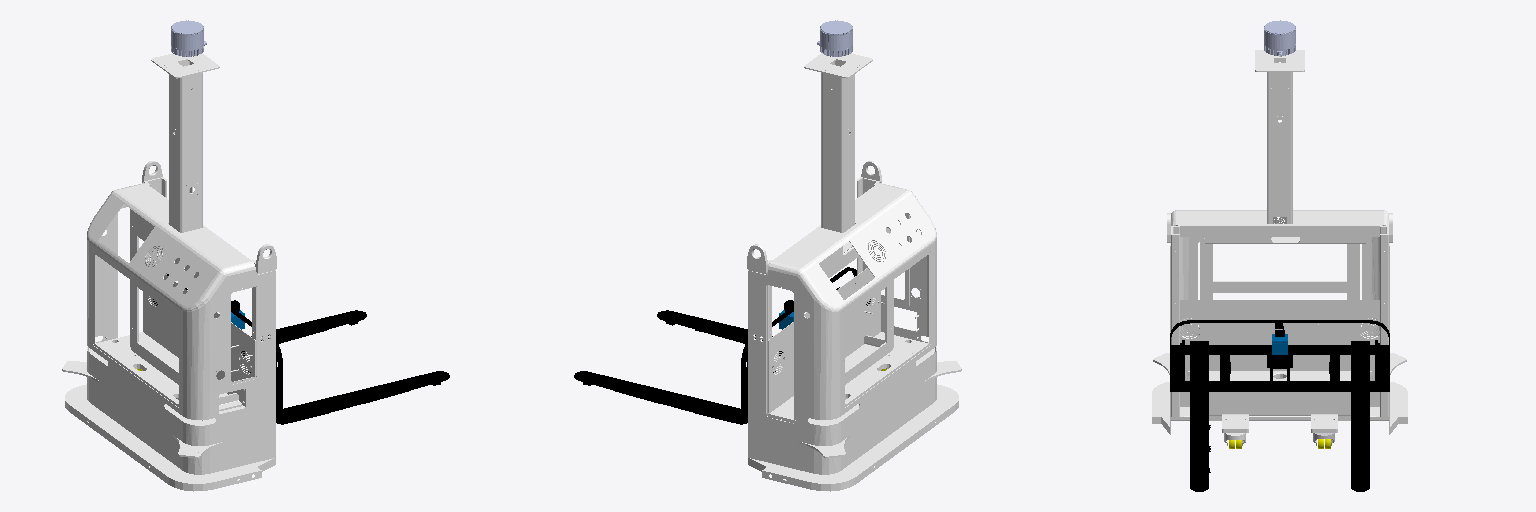
robot.urdf — AGV04132:
<?xml version="1.0" encoding="utf-8"?>
<!-- This URDF was automatically created by SolidWorks to URDF Exporter! Originally created by [author] ([email redacted]) 
     Commit Version: 1.6.0-4-g7f85cfe  Build Version: 1.6.7995.38578
     For more information, please see http://wiki.ros.org/sw_urdf_exporter -->
<robot
  name="AGV04132">
  <link
    name="base_link">
    <inertial>
      <origin
        xyz="0.066291 -0.0017733 0.2351"
        rpy="0 0 0" />
      <mass
        value="10.832" />
      <inertia
        ixx="0.54185"
        ixy="0.00068644"
        ixz="-0.011381"
        iyy="0.20496"
        iyz="0.0023083"
        izz="0.40961" />
    </inertial>
    <visual>
      <origin
        xyz="0 0 0"
        rpy="0 0 0" />
      <geometry>
        <mesh
          filename="package://AGV04132/meshes/base_link.STL" />
      </geometry>
      <material
        name="">
        <color
          rgba="1 1 1 1" />
      </material>
    </visual>
    <collision>
      <origin
        xyz="0 0 0"
        rpy="0 0 0" />
      <geometry>
        <mesh
          filename="package://AGV04132/meshes/base_link.STL" />
      </geometry>
    </collision>
  </link>
  <link
    name="left_actuated_wheel_Link">
    <inertial>
      <origin
        xyz="8.01539112860183E-11 -0.0290000047995962 1.00781702427888E-10"
        rpy="0 0 0" />
      <mass
        value="0.623375024004259" />
      <inertia
        ixx="0.00218383955294176"
        ixy="2.82707735071877E-13"
        ixz="3.08386316663336E-09"
        iyy="0.00399973970018724"
        iyz="2.29368724589417E-14"
        izz="0.00218352152437162" />
    </inertial>
    <visual>
      <origin
        xyz="0 0 0"
        rpy="0 0 0" />
      <geometry>
        <mesh
          filename="package://AGV04132/meshes/left_actuated_wheel_Link.STL" />
      </geometry>
      <material
        name="">
        <color
          rgba="1 1 0 1" />
      </material>
    </visual>
    <collision>
      <origin
        xyz="0 0 0"
        rpy="0 0 0" />
      <geometry>
        <mesh
          filename="package://AGV04132/meshes/left_actuated_wheel_Link.STL" />
      </geometry>
    </collision>
  </link>
  <joint
    name="left_actuated_wheel_joint"
    type="continuous">
    <origin
      xyz="0 0.303 0"
      rpy="0 0 0" />
    <parent
      link="base_link" />
    <child
      link="left_actuated_wheel_Link" />
    <axis
      xyz="0 1 0" />
  </joint>
  <link
    name="right_actuated_wheel_link">
    <inertial>
      <origin
        xyz="8.01539667971696E-11 0.0290000047995962 -1.0078156365001E-10"
        rpy="0 0 0" />
      <mass
        value="0.62337502400426" />
      <inertia
        ixx="0.00218383955294177"
        ixy="-2.82709515164589E-13"
        ixz="-3.08386316712581E-09"
        iyy="0.00399973970018725"
        iyz="2.29401615622903E-14"
        izz="0.00218352152437162" />
    </inertial>
    <visual>
      <origin
        xyz="0 0 0"
        rpy="0 0 0" />
      <geometry>
        <mesh
          filename="package://AGV04132/meshes/right_actuated_wheel_link.STL" />
      </geometry>
      <material
        name="">
        <color
          rgba="1 1 0 1" />
      </material>
    </visual>
    <collision>
      <origin
        xyz="0 0 0"
        rpy="0 0 0" />
      <geometry>
        <mesh
          filename="package://AGV04132/meshes/right_actuated_wheel_link.STL" />
      </geometry>
    </collision>
  </link>
  <joint
    name="right_actuated_wheel_joint"
    type="continuous">
    <origin
      xyz="0 -0.303 0"
      rpy="0 0 0" />
    <parent
      link="base_link" />
    <child
      link="right_actuated_wheel_link" />
    <axis
      xyz="0 1 0" />
  </joint>
  <link
    name="fork_link">
    <inertial>
      <origin
        xyz="0.15316 -7.6109E-05 -0.09274"
        rpy="0 0 0" />
      <mass
        value="3.0925" />
      <inertia
        ixx="0.051652"
        ixy="3.5814E-07"
        ixz="0.012075"
        iyy="0.071376"
        iyz="8.7888E-08"
        izz="0.10101" />
    </inertial>
    <visual>
      <origin
        xyz="0 0 0"
        rpy="0 0 0" />
      <geometry>
        <mesh
          filename="package://AGV04132/meshes/fork_link.STL" />
      </geometry>
      <material
        name="">
        <color
          rgba="0 0 0 1" />
      </material>
    </visual>
    <collision>
      <origin
        xyz="0 0 0"
        rpy="0 0 0" />
      <geometry>
        <mesh
          filename="package://AGV04132/meshes/fork_link.STL" />
      </geometry>
    </collision>
  </link>
  <joint
    name="fork_joint"
    type="prismatic">
    <origin
      xyz="0.145 0 0.21067"
      rpy="0 0 0" />
    <parent
      link="base_link" />
    <child
      link="fork_link" />
    <axis
      xyz="0 0 1" />
    <limit
      lower="0."
      upper="0.2"
      effort="0"
      velocity="0.05" />
    <dynamics damping="0.7" friction="0.5"/>
    <!-- <pid>
      <pid>100.0 10 0 </pid>
      <i_clamp>1.0</i_clamp>
    </pid> -->
  </joint>


  <link name="camera_Link">
    <inertial>
      <origin
        xyz="0.000168500877015532 6.80373883726769E-05 -0.0324046873984643"
        rpy="0 0 0" />
      <mass
        value="1e-5" />
      <inertia ixx="1e-6" ixy="0" ixz="0" iyy="1e-6" iyz="0" izz="1e-6" />
    </inertial>
    <visual>
      <origin
        xyz="0 0 0"
        rpy="0 0 0" />
            <geometry>
                <box size="0.05 0.05 0.05" />
            </geometry>
      <material
        name="Blue">
      </material>
    </visual>
    <collision>
      <origin
        xyz="0 0 0"
        rpy="0 0 0" />
            <geometry>
                <box size="0.05 0.05 0.05" />
            </geometry>
    </collision>
  </link>
  <joint
    name="camera_link_joint"
    type="fixed">
    <origin
      xyz="0.0872860492302612 0 0.0545877352644308"
      rpy="0 0 0" />
    <parent
      link="fork_link" />
    <child
      link="camera_Link" />
  </joint>
  <link
    name="liadar_link">
    <inertial>
      <origin
        xyz="0.0539558801128225 0.000239523932522526 -0.068864290839622"
        rpy="0 0 0" />
      <mass
        value="0.00188264379755462" />
      <inertia
        ixx="5.08572975763605E-08"
        ixy="-1.29897252751499E-10"
        ixz="1.5870589812105E-10"
        iyy="8.03361802698923E-08"
        iyz="6.10410719664548E-12"
        izz="7.90690114029389E-08" />
    </inertial>
    <visual>
      <origin
        xyz="0 0 0"
        rpy="0 0 0" />
      <geometry>
        <mesh
          filename="package://AGV04132/meshes/liadar_link.STL" />
      </geometry>
      <material
        name="">
        <color
          rgba="0.792156862745098 0.819607843137255 0.933333333333333 1" />
      </material>
    </visual>
    <collision>
      <origin
        xyz="0 0 0"
        rpy="0 0 0" />
      <geometry>
        <mesh
          filename="package://AGV04132/meshes/liadar_link.STL" />
      </geometry>
    </collision>
  </link>
  <joint
    name="liadar_joint"
    type="fixed">
    <origin
      xyz="0.067269 0 1.2965"
      rpy="0 0 0" />
    <parent
      link="base_link" />
    <child
      link="liadar_link" />
    <axis
      xyz="0 0 0" />
  </joint>
  <link
    name="left_support_Link">
    <inertial>
      <origin
        xyz="-0.00986110472071291 -0.000462260599245812 -0.0286779778393793"
        rpy="0 0 0" />
      <mass
        value="0.431891023893567" />
      <inertia
        ixx="0.000157390240069569"
        ixy="-1.6354440914801E-09"
        ixz="-5.981811898461E-06"
        iyy="0.000170340527585018"
        iyz="3.14216703784786E-08"
        izz="0.000200205385960138" />
    </inertial>
    <visual>
      <origin
        xyz="0 0 0"
        rpy="0 0 0" />
      <geometry>
        <mesh
          filename="package://AGV04132/meshes/left_support_Link.STL" />
      </geometry>
      <material
        name="">
        <color
          rgba="0.866666666666667 0.866666666666667 0.890196078431372 1" />
      </material>
      <gazebo>
        <material>Green</material>
      </gazebo>
    </visual>
    <collision>
      <origin
        xyz="0 0 0"
        rpy="0 0 0" />
      <geometry>
        <mesh
          filename="package://AGV04132/meshes/left_support_Link.STL" />
      </geometry>
    </collision>
  </link>
  <joint
    name="left_support_joint"
    type="continuous">
    <origin
      xyz="0.25844 0.14017 -0.020384"
      rpy="0 0 0" />
    <parent
      link="base_link" />
    <child
      link="left_support_Link" />
    <axis
      xyz="0 0 -1" />
    <dynamics damping="0.1" friction="0.01"/>
    <sensor name="left_support_joint_sensor" type="joint_state"/>
  </joint>
  <link
    name="left_smallwheel_link">
    <inertial>
      <origin
        xyz="0.0084055 -0.020743 0.016355"
        rpy="0 0 0" />
      <mass
        value="0.43189" />
      <inertia
        ixx="0.00015739"
        ixy="-1.6354E-09"
        ixz="-5.9818E-06"
        iyy="0.00017034"
        iyz="3.1422E-08"
        izz="0.00020021" />
    </inertial>
    <visual>
      <origin
        xyz="0 0 0"
        rpy="0 0 0" />
      <geometry>
        <mesh
          filename="package://AGV04132/meshes/left_smallwheel_link.STL" />
      </geometry>
      <material
        name="">
        <color
          rgba="1 1 0 1" />
      </material>
    </visual>
    <collision>
      <origin
        xyz="0 0 0"
        rpy="0 0 0" />
      <geometry>
        <mesh
          filename="package://AGV04132/meshes/left_smallwheel_link.STL" />
      </geometry>
    </collision>
  </link>
  <joint
    name="left_smallwheel_joint"
    type="continuous">
    <origin
      xyz="-0.0182666012400155 0.0207185149008818 -0.0450326723363207"
      rpy="0 0 0" />
    <parent
      link="left_support_Link" />
    <child
      link="left_smallwheel_link" />
    <axis
      xyz="0 1 0" />
    <dynamics damping="0.1" friction="0.01"/>
    <sensor name="left_smallwheel_joint_sensor" type="joint_state"/>
  </joint>
  <link
    name="right_support_link">
    <inertial>
      <origin
        xyz="0 0 0"
        rpy="0 0 0" />
      <mass
        value="0.431891023893567" />
      <inertia
        ixx="0.000157390240069569"
        ixy="-1.6354440914801E-09"
        ixz="-5.981811898461E-06"
        iyy="0.000170340527585018"
        iyz="3.14216703784786E-08"
        izz="0.000200205385960138" />
    </inertial>
    <visual>
      <origin
        xyz="0 0 0"
        rpy="0 0 0" />
      <geometry>
        <mesh
          filename="package://AGV04132/meshes/right_support_link.STL" />
      </geometry>
      <material
        name="">
        <color
          rgba="1 1 1 1" />
      </material>
    </visual>
    <collision>
      <origin
        xyz="0 0 0"
        rpy="0 0 0" />
      <geometry>
        <mesh
          filename="package://AGV04132/meshes/right_support_link.STL" />
      </geometry>
    </collision>
  </link>
  <joint
    name="right_support_joint"
    type="continuous">
    <origin
      xyz="0.259811197541686 -0.141200521014536 -0.0203839583452896"
      rpy="0 0 0" />
    <parent
      link="base_link" />
    <child
      link="right_support_link" />
    <axis
      xyz="0 0 -1" />
    <dynamics damping="0.1" friction="0.01"/>
    <sensor name="right_support_joint_sensor" type="joint_state"/>
  </joint>
  <link
    name="right_smallwheel_link">
    <inertial>
      <origin
        xyz="0.00840549651925082 0.0212074613469874 0.0163546944969295"
        rpy="0 0 0" />
      <mass
        value="0.431891023893566" />
      <inertia
        ixx="0.000157390240069569"
        ixy="-1.63544409148318E-09"
        ixz="-5.98181189846086E-06"
        iyy="0.000170340527585018"
        iyz="3.14216703784221E-08"
        izz="0.000200205385960138" />
    </inertial>
    <visual>
      <origin
        xyz="0 0 0"
        rpy="0 0 0" />
      <geometry>
        <mesh
          filename="package://AGV04132/meshes/right_smallwheel_link.STL" />
      </geometry>
      <material
        name="">
        <color
          rgba="1 1 0 1" />
      </material>
    </visual>
    <collision>
      <origin
        xyz="0 0 0"
        rpy="0 0 0" />
      <geometry>
        <mesh
          filename="package://AGV04132/meshes/right_smallwheel_link.STL" />
      </geometry>
    </collision>
  </link>
  <joint
    name="right_smallwheel_joint"
    type="continuous">
    <origin
      xyz="-0.0182666012400272 -0.0212314850991181 -0.0450326723363171"
      rpy="0 0 0" />
    <parent
      link="right_support_link" />
    <child
      link="right_smallwheel_link" />
    <axis
      xyz="0 -1 0" />
    <dynamics damping="0.1" friction="0.01"/>
    <sensor name="right_smallwheel_joint_sensor" type="joint_state"/>
  </joint>

  
    <!-- calling parts in gazebo-->
    <!-- lidar calling in gazebo-->
  <gazebo reference="liadar_link">
      <material>Gazebo/Blue</material>
      <turnGravityOff>false</turnGravityOff>
      <sensor type="ray" name="head_hokuyo_sensor">
          <pose>0.025 0 0 0 0 0</pose>
          <visualize>false</visualize>
          <ray_alpha>0.1</ray_alpha>
          <update_rate>40</update_rate>
          <ray>
              <scan>
                  <!-- 32 scan lines -->
                  <horizontal>
                      <samples>100</samples>
                      <resolution>0.5</resolution>
                      <min_angle>-1.5708</min_angle>
                      <max_angle>1.5708</max_angle>
                  </horizontal>
                  <vertical>
                      <samples>32</samples>
                      <resolution>0.5</resolution>
                      <min_angle>-1.5</min_angle>
                      <max_angle>0</max_angle>
                  </vertical>
              </scan>
              <range>
                  <min>0.5</min>
                  <max>8.0</max>
                  <resolution>0.02</resolution>
              </range>
          </ray>
          <plugin name="gazebo_ros_laser" filename="libgazebo_ros_laser.so">
              <topicName>/scan</topicName>
              <frameName>liadar_link</frameName>
              <alwaysOn>true</alwaysOn>
              <pointCloudTopicName>/point_cloud</pointCloudTopicName>
              <pointCloudCutoff>false</pointCloudCutoff>
              <pointCloudMinRange>0.5</pointCloudMinRange>
              <pointCloudMaxRange>8.0</pointCloudMaxRange>
              <pointCloudTopicType>sensor_msgs/PointCloud2</pointCloudTopicType>
          </plugin>
      </sensor>
  </gazebo>

 	<gazebo reference="camera_Link">
        <sensor type="camera" name="camera1">
            <update_rate>30.0</update_rate>
            <camera name="head">
                <horizontal_fov>1.3962634</horizontal_fov>
                <image>
                    <width>800</width>
                    <height>800</height>
                    <format>R8G8B8</format>
                </image>
                <clip>
                    <near>0.02</near>
                    <far>300</far>
                </clip>
                <noise>
                    <type>gaussian</type>
                    <!-- Noise is sampled independently per pixel on each frame.
               That pixel's noise value is added to each of its color
               channels, which at that point lie in the range [0,1]. -->
                    <mean>0.0</mean>
                    <stddev>0.007</stddev>
                </noise>
            </camera>
            <plugin name="camera_controller" filename="libgazebo_ros_camera.so">
                <alwaysOn>true</alwaysOn>
                <updateRate>0.0</updateRate>
                <cameraName>AGV04132/camera1</cameraName>
                <imageTopicName>image_raw</imageTopicName>
                <cameraInfoTopicName>camera_info</cameraInfoTopicName>
                <frameName>camera_Link</frameName>
                <hackBaseline>0.07</hackBaseline>
                <distortionK1>0.0</distortionK1>
                <distortionK2>0.0</distortionK2>
                <distortionK3>0.0</distortionK3>
                <distortionT1>0.0</distortionT1>
                <distortionT2>0.0</distortionT2>
            </plugin>
        </sensor>
    </gazebo>
	

  <gazebo reference="fork_link">
		<material>Gazebo/Black</material>
	</gazebo>

  <gazebo reference="right_support_link">
		<material>Gazebo/Green</material>
	</gazebo>

  <gazebo reference="left_support_link">
		<material>Gazebo/Green</material>
	</gazebo>

  <gazebo reference="left_smallwheel_link">
		<material>Gazebo/Yellow</material>
	</gazebo>

  <gazebo reference="right_smallwheel_link">
		<material>Gazebo/Yellow</material>
	</gazebo>
	<transmission name="left_driving_trans">
		<type>transmission_interface/SimpleTransmission</type>
		<actuator name="left_driving_motor">
			<mechanicalReduction>1</mechanicalReduction>
		</actuator>
		<joint name="left_actuated_wheel_joint">
			<hardwareInterface>hardware_interface/VelocityJointInterface</hardwareInterface>
		</joint>
	</transmission>

  <transmission name="right_driving_trans">
		<type>transmission_interface/SimpleTransmission</type>
		<actuator name="right_driving_motor">
			<mechanicalReduction>1</mechanicalReduction>
		</actuator>
		<joint name="right_actuated_wheel_joint">
			<hardwareInterface>hardware_interface/VelocityJointInterface</hardwareInterface>
		</joint>
	</transmission>

	<transmission name="fork_trans">
		<type>transmission_interface/SimpleTransmission</type>
		<actuator name="fork_motor">
			<mechanicalReduction>1</mechanicalReduction>
		</actuator>
		<joint name="fork_joint">
			<hardwareInterface>hardware_interface/PositionJointInterface</hardwareInterface>
		</joint>
	</transmission>


  <gazebo>
		<plugin name="gazebo_ros_control" filename="libgazebo_ros_control.so">
			<robotNamespace>/</robotNamespace>
		</plugin>
	</gazebo>

  <gazebo>
    <plugin name="joint_state_publisher" filename="libgazebo_ros_joint_state_publisher.so">
      <alwaysOn>true</alwaysOn>
      <updateRate>50</updateRate>
      <jointName>left_smallwheel_joint,right_smallwheel_joint,right_support_joint,left_support_joint</jointName>
    </plugin>
  </gazebo>

</robot>

--- What the picture shows (computed from the rendered views, not written in the file) ---
The picture shows the robot from 3 angles, left to right: view 1: azimuth 30°, elevation 25°; view 2: azimuth 150°, elevation 25°; view 3: azimuth 270°, elevation 25°; orthographic projection.
Model AGV04132 with 10 links and 9 joints (6 continuous, 1 prismatic, 2 fixed), rooted at base_link, posed every joint at zero.
Links seen in each view (by area): view 1: base_link, fork_link, liadar_link; view 2: base_link, fork_link, liadar_link; view 3: base_link, fork_link, liadar_link.
Link boxes in pixels (left/top/right/bottom): base_link: left=62, top=53, right=276, bottom=491; fork_link: left=153, top=274, right=449, bottom=424; liadar_link: left=171, top=20, right=206, bottom=56; base_link: left=747, top=53, right=961, bottom=491; fork_link: left=574, top=267, right=870, bottom=424; liadar_link: left=817, top=20, right=852, bottom=56; base_link: left=1152, top=50, right=1407, bottom=434; fork_link: left=1170, top=320, right=1389, bottom=491; liadar_link: left=1264, top=20, right=1295, bottom=56.
Bounding box of the posed robot: 1.02 × 0.812 × 1.39 m (x, y, z).
9 mesh visuals loaded from 9 distinct referenced files (9 binary STL).
